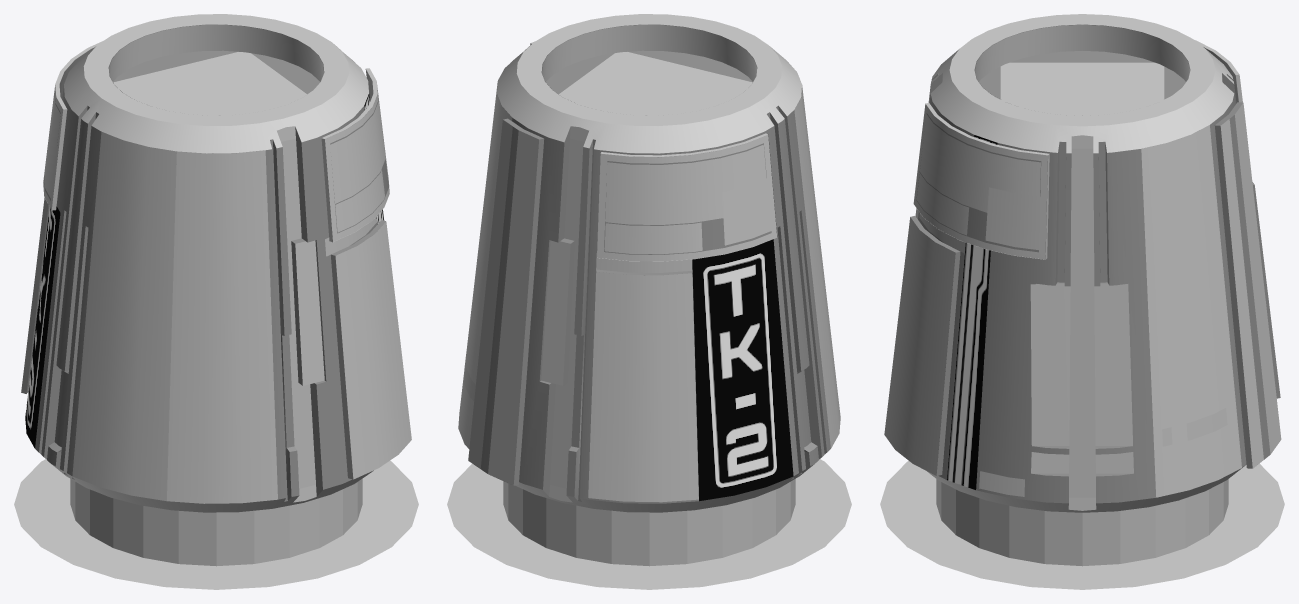
The model's file is Structure_05.fbx.
3 views of the same model, side by side, from view 1: azimuth 30°, elevation 25°; view 2: azimuth 150°, elevation 25°; view 3: azimuth 270°, elevation 25° (orthographic).
Visible parts, largest first — view 1: Structure_05_Decal_Normal, Structure_05, Structure_05_Decal_Color, Structure_05_Emission, Structure_05_Decal_Text; view 2: Structure_05_Decal_Normal, Structure_05, Structure_05_Decal_Text, Structure_05_Decal_Color, Structure_05_Emission; view 3: Structure_05_Decal_Normal, Structure_05, Structure_05_Decal_Color, Structure_05_Emission, Structure_05_Decal_Text.
Part boxes in pixels (x1,y1,x2,y2): Structure_05_Decal_Normal: (14,14,418,589); Structure_05: (21,24,388,566); Structure_05_Decal_Color: (44,52,388,232); Structure_05_Emission: (281,138,376,488); Structure_05_Decal_Text: (25,94,383,448); Structure_05_Decal_Normal: (447,14,851,589); Structure_05: (480,24,830,566); Structure_05_Decal_Text: (692,239,793,501); Structure_05_Decal_Color: (559,52,771,254); Structure_05_Emission: (464,138,692,488); Structure_05_Decal_Normal: (880,14,1284,589); Structure_05: (910,24,1280,566); Structure_05_Decal_Color: (916,62,1164,473); Structure_05_Emission: (919,148,1227,497); Structure_05_Decal_Text: (947,135,997,489).
Size of what is drawn, in the model's own units: 16.9 by 20 by 16.9.
